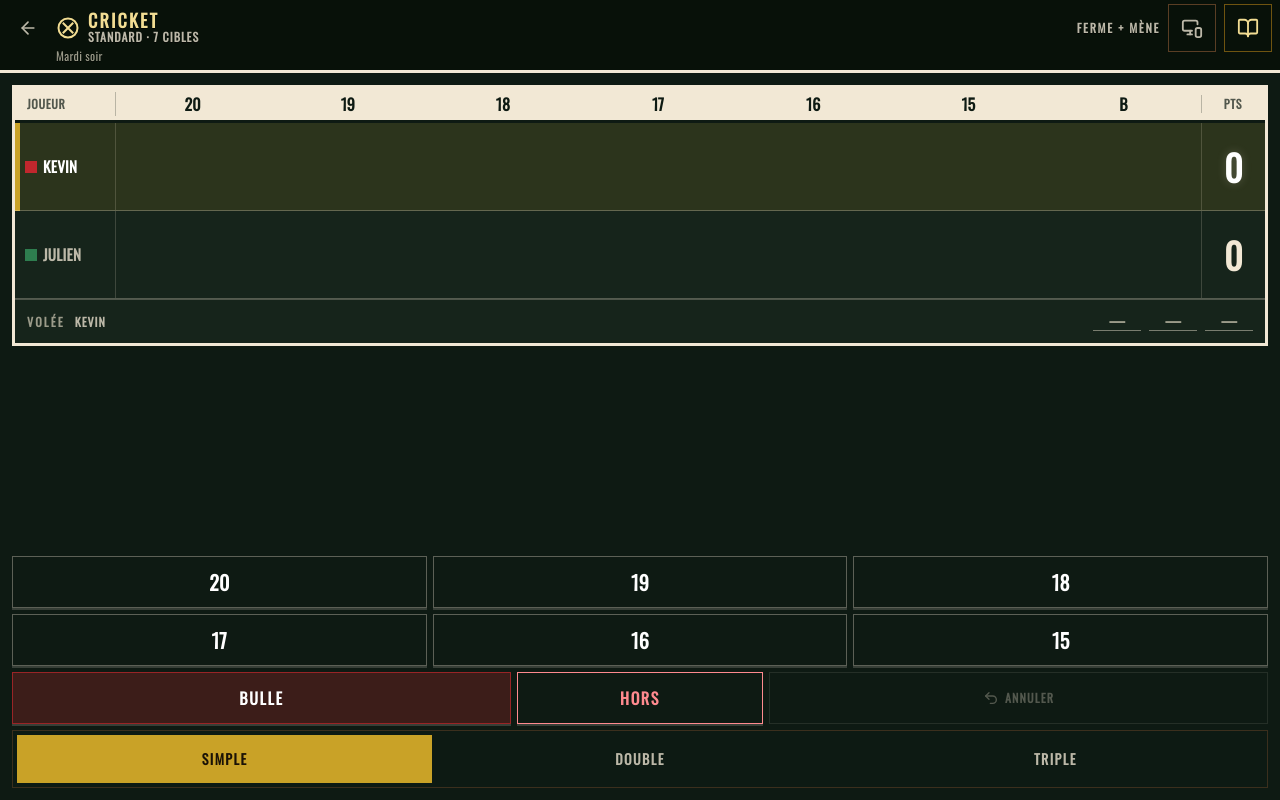
Le livre ouvert, sur le match › ouvre la feuille de règles de CRICKET sans changer d’URL
What coordinates should you click on to do the following:
click the button named "Règles du Cricket"
I would click on:
 (1248, 28)
Its box is [1224,4,1272,52].
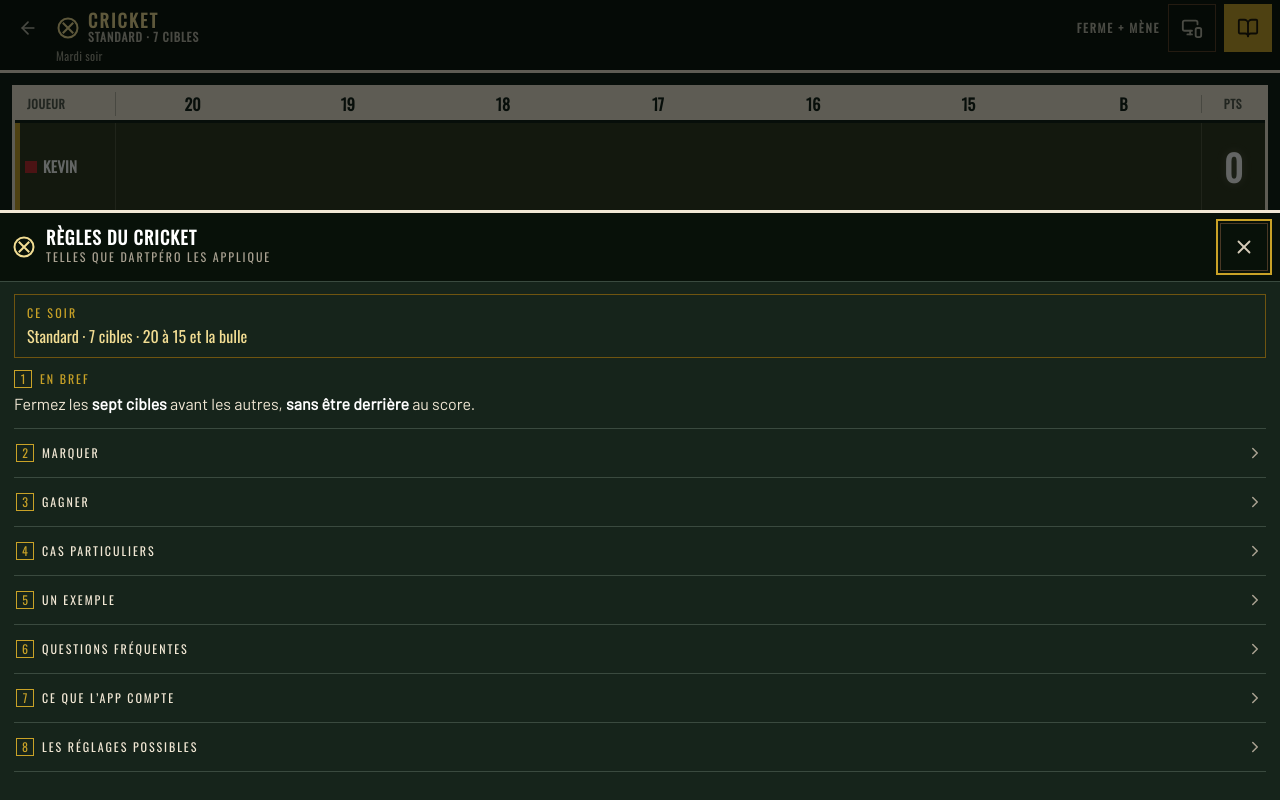
Now the dialog "Règles du Cricket" is shown
Now the button named "Règles du Cricket" is expanded, box [1224,4,1272,52]
